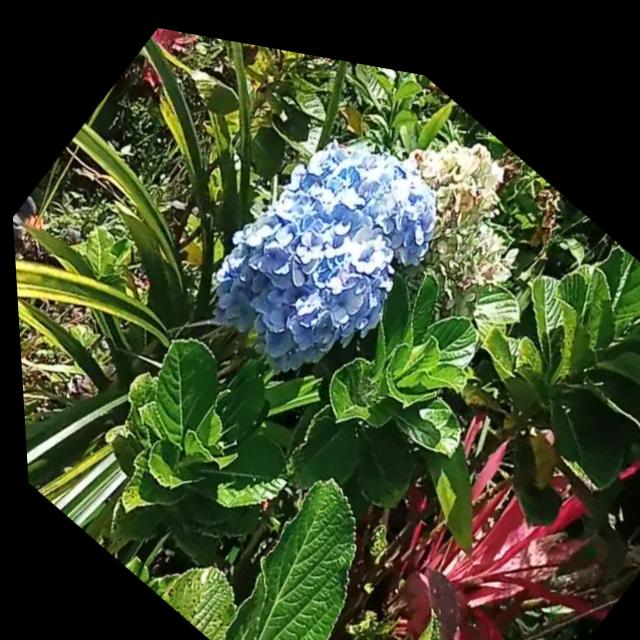Flower: (177, 71, 466, 414)
